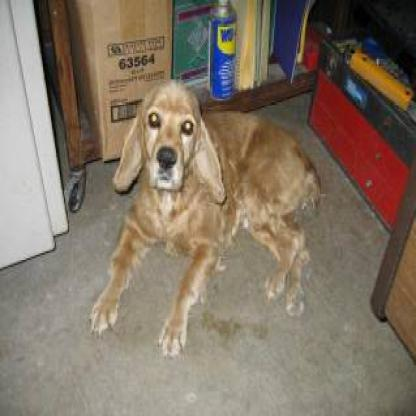dog: (96, 65, 332, 357)
